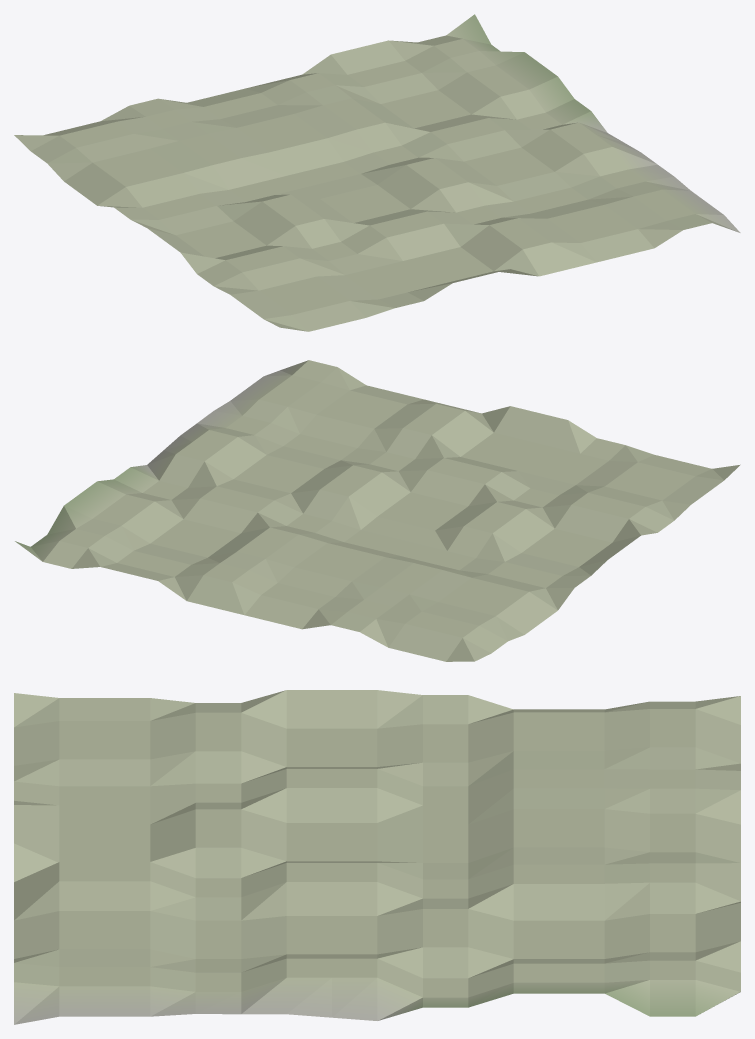
3 views of the same model, one above another, from view 1: azimuth 30°, elevation 25°; view 2: azimuth 150°, elevation 25°; view 3: azimuth 270°, elevation 25° (orthographic). The views are drawn at different scales.
Size of the model in its own units: 32 by 1.62 by 32.
